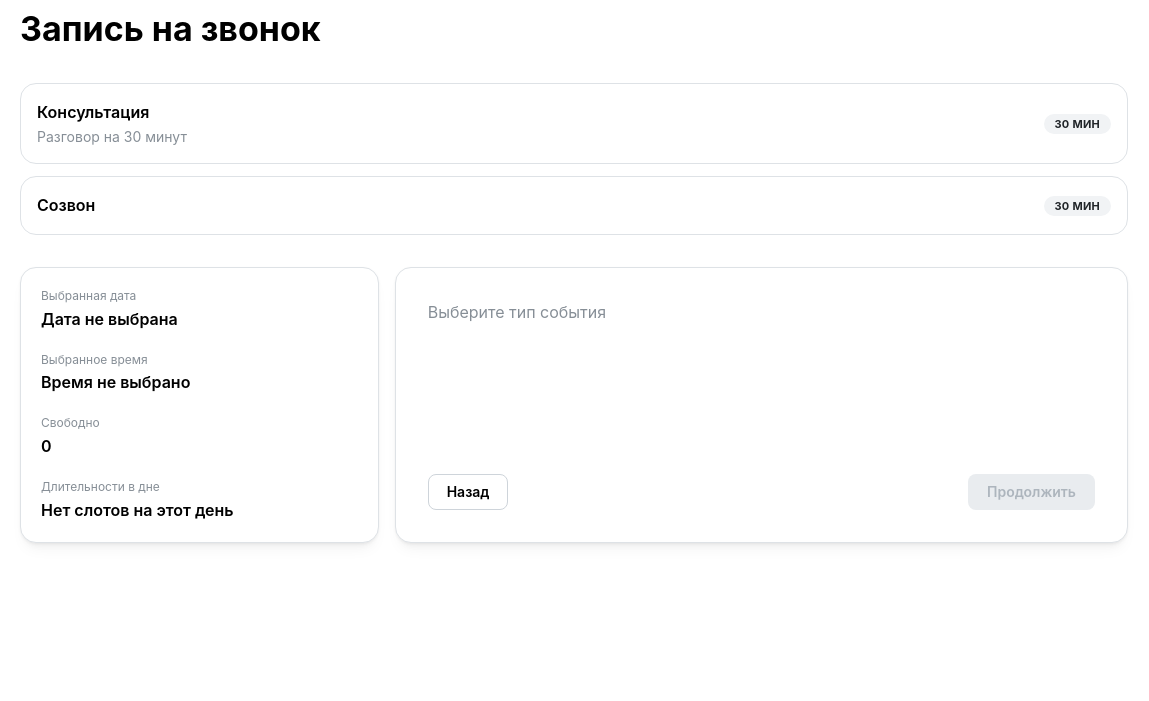
Scenario: BookingPage › по выбору типа подсвечивает первый день со свободными слотами и считает их в календаре
This screenshot has width=1149, height=701.
Click the button "Консультация Разговор на 30 минут 30 мин": x=574, y=124 [20, 83, 1128, 164]
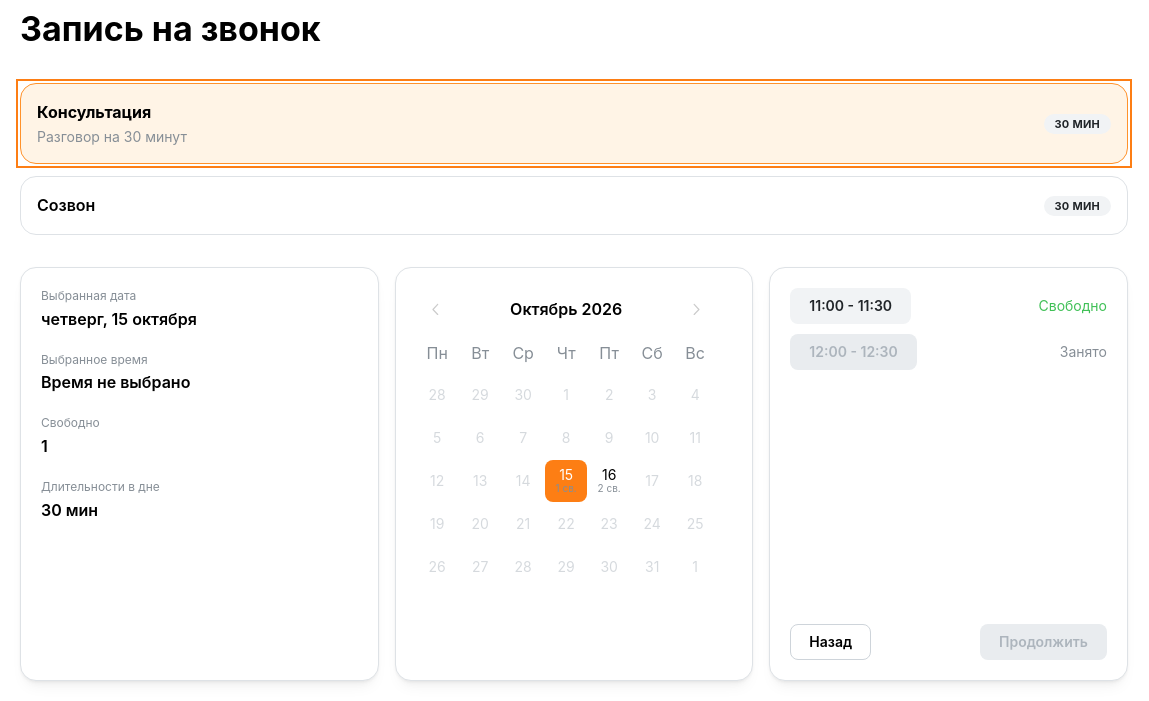
Result: the text "четверг, 15 октября" is shown at [41, 309, 197, 329]
Result: the text "30 мин" below "Длительности в дне" is shown at [41, 500, 98, 520]
Result: the text "1 св." is shown at [556, 482, 577, 494]
